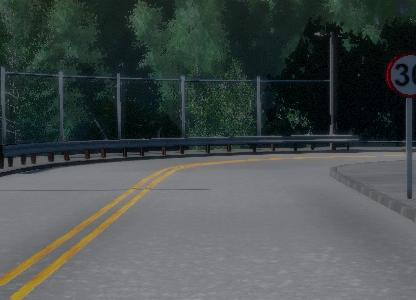Speed_30: (384, 50, 416, 99)
